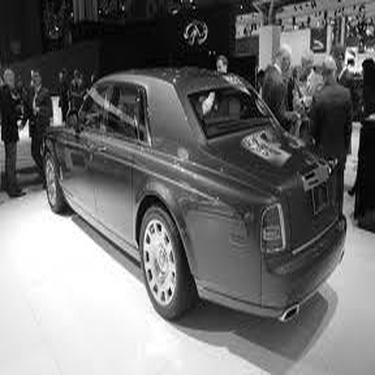car: (35, 60, 354, 333)
